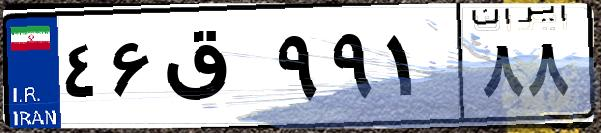1: (385, 28, 445, 110)
4: (57, 26, 110, 100)
6: (110, 28, 158, 98)
8: (475, 38, 525, 113), (525, 38, 570, 115)
9: (270, 28, 330, 110), (330, 28, 385, 110)
ق: (158, 20, 270, 120)
